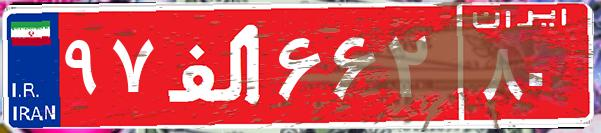0: (525, 38, 570, 115)
2: (385, 28, 445, 110)
6: (273, 28, 330, 110), (330, 28, 385, 110)
7: (110, 28, 158, 105)
8: (475, 38, 525, 113)
9: (57, 26, 110, 107)
الف: (158, 15, 273, 115)
